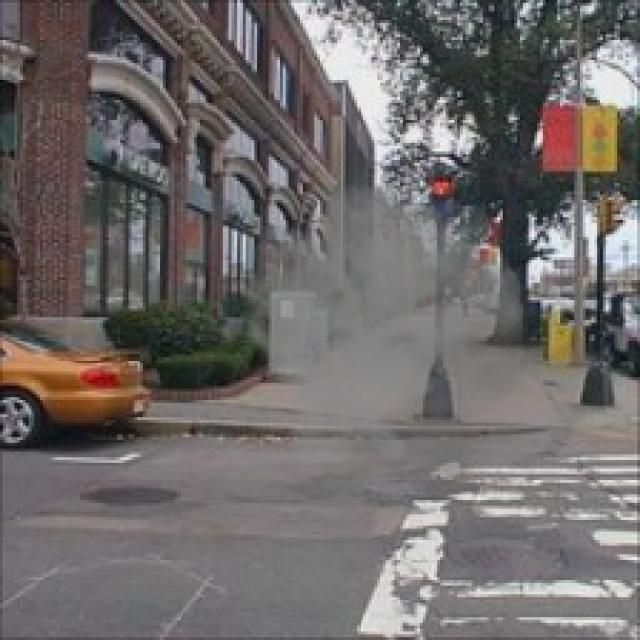Smoke: (232, 160, 628, 503)
